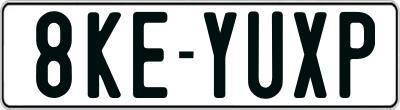8: (36, 10, 74, 98)
E: (130, 10, 165, 96)
K: (88, 11, 121, 100)
P: (339, 9, 375, 101)
U: (248, 9, 288, 103)
X: (291, 11, 325, 99)
Y: (204, 12, 243, 102)
